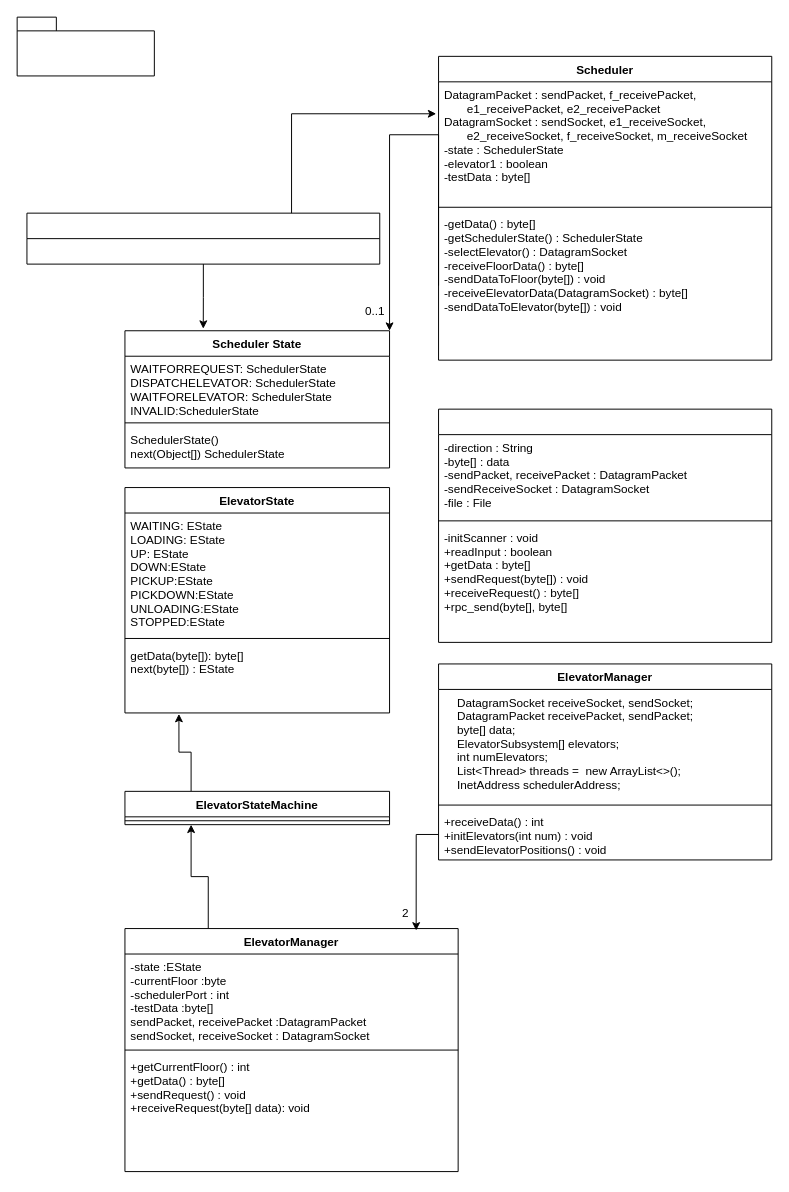
Some shapes in this 789 by 1192 pixel diagram are drawn without their labels. Here are the shapes that lost their labels. From the top down, the box of each, then its label:
(16, 16, 154, 76): <<Java Package>> iteration3
(26, 212, 380, 264): SchedulerStateMachine
(438, 408, 772, 642): FloorSubsystem
